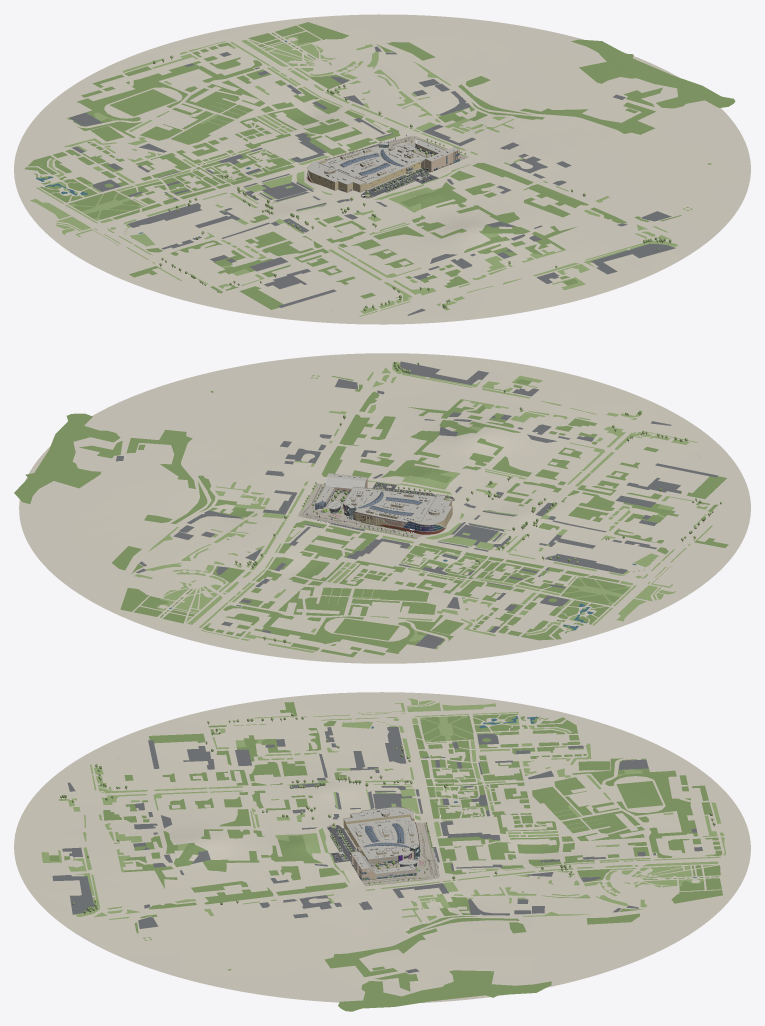
File: dostyk-plaza.core.glb
3 views of the same model, one above another, from view 1: azimuth 30°, elevation 25°; view 2: azimuth 150°, elevation 25°; view 3: azimuth 270°, elevation 25° (orthographic).
Parts seen in each view (by area): view 1: Site_Ground__site.ground, Site_Ground__site.grassDark, Site_Ground__site.grass, Site_Ground__site.asphaltLight, Building__batch__roof.membrane, Building__batch__north.wall, Building__batch__roof.cap, Site_Paving__site.asphalt, Site_Trees__site.treeAlt, Site_Trees__site.tree, Building__batch__es.panel; view 2: Site_Ground__site.ground, Site_Ground__site.grassDark, Site_Ground__site.grass, Site_Ground__site.asphaltLight, Building__batch__roof.membrane, Site_Paving__site.plaza, Building__batch__north.wall, Site_Trees__site.tree, Site_Trees__site.treeAlt, Building__batch__roof.cap; view 3: Site_Ground__site.ground, Site_Ground__site.grassDark, Site_Ground__site.grass, Site_Ground__site.asphaltLight, Building__batch__roof.membrane, Site_Paving__site.plaza, Site_Trees__site.tree, Site_Trees__site.treeAlt, Building__batch__es.panel, Building__batch__roof.cap.
Boxes of the visible parts, bbox=[...] form: Site_Ground__site.ground: bbox=[14, 14, 750, 324]; Site_Ground__site.grassDark: bbox=[24, 22, 735, 310]; Site_Ground__site.grass: bbox=[30, 36, 692, 316]; Site_Ground__site.asphaltLight: bbox=[69, 46, 675, 315]; Building__batch__roof.membrane: bbox=[307, 140, 458, 184]; Building__batch__north.wall: bbox=[307, 160, 404, 192]; Building__batch__roof.cap: bbox=[307, 140, 453, 191]; Site_Paving__site.asphalt: bbox=[361, 168, 438, 198]; Site_Trees__site.treeAlt: bbox=[159, 55, 658, 310]; Site_Trees__site.tree: bbox=[153, 60, 671, 308]; Building__batch__es.panel: bbox=[404, 144, 459, 173]; Site_Ground__site.ground: bbox=[19, 353, 750, 663]; Site_Ground__site.grassDark: bbox=[14, 375, 728, 657]; Site_Ground__site.grass: bbox=[134, 362, 712, 652]; Site_Ground__site.asphaltLight: bbox=[116, 361, 718, 648]; Building__batch__roof.membrane: bbox=[315, 473, 451, 523]; Site_Paving__site.plaza: bbox=[298, 483, 446, 538]; Building__batch__north.wall: bbox=[353, 497, 452, 534]; Site_Trees__site.tree: bbox=[239, 361, 705, 642]; Site_Trees__site.treeAlt: bbox=[235, 367, 721, 640]; Building__batch__roof.cap: bbox=[315, 475, 452, 525]; Site_Ground__site.ground: bbox=[14, 692, 750, 1002]; Site_Ground__site.grassDark: bbox=[49, 702, 722, 1011]; Site_Ground__site.grass: bbox=[41, 698, 725, 940]; Site_Ground__site.asphaltLight: bbox=[52, 727, 702, 973]; Building__batch__roof.membrane: bbox=[338, 807, 418, 873]; Site_Paving__site.plaza: bbox=[362, 822, 439, 885]; Site_Trees__site.tree: bbox=[62, 717, 712, 913]; Site_Trees__site.treeAlt: bbox=[60, 713, 715, 908]; Building__batch__es.panel: bbox=[351, 846, 416, 879]; Building__batch__roof.cap: bbox=[343, 806, 415, 876].
Bounding box in the file's own units: 1437 × 45.46 × 1400.
